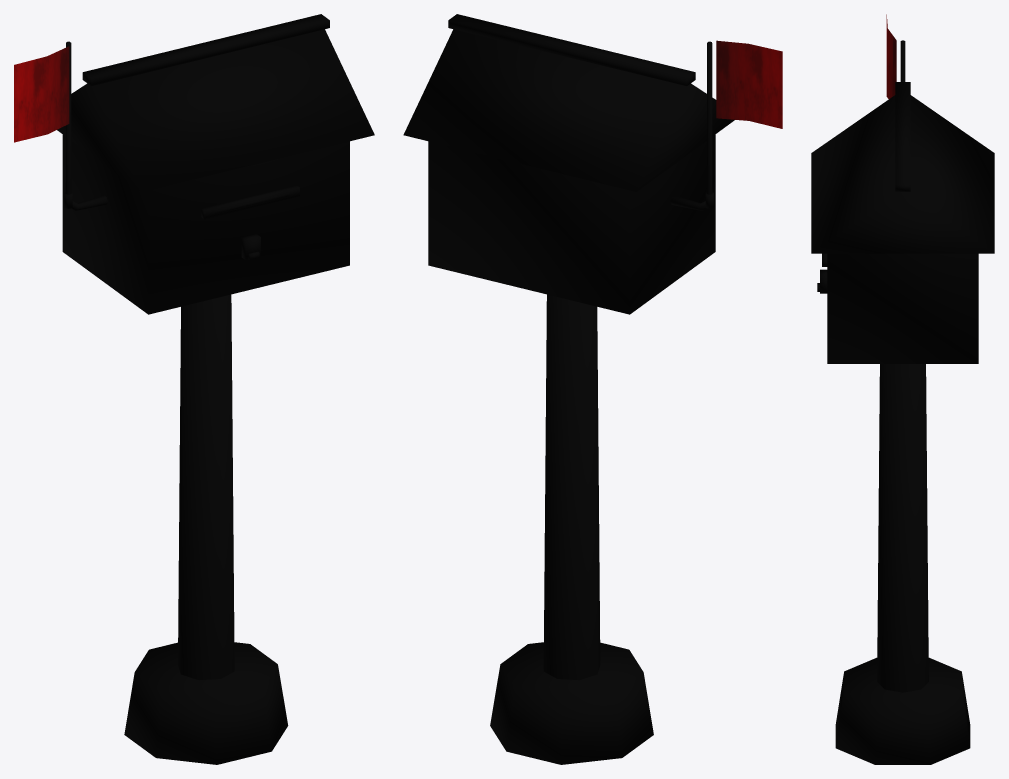
The model's file is prop_haven_mailbox.glb.
The picture shows the model from 3 angles, left to right: view 1: azimuth 30°, elevation 25°; view 2: azimuth 150°, elevation 25°; view 3: azimuth 270°, elevation 25°; orthographic projection. The views are drawn at different scales.
Parts seen in each view (by area): view 1: haven_mailbox; view 2: haven_mailbox; view 3: haven_mailbox.
Part boxes in pixels (x1,y1,x2,y2): haven_mailbox: (14, 14, 374, 764); haven_mailbox: (403, 14, 782, 764); haven_mailbox: (811, 14, 994, 764).
Size of the model in its own units: 0.605 by 1.3 by 0.34.
1 material, 1 textured.
